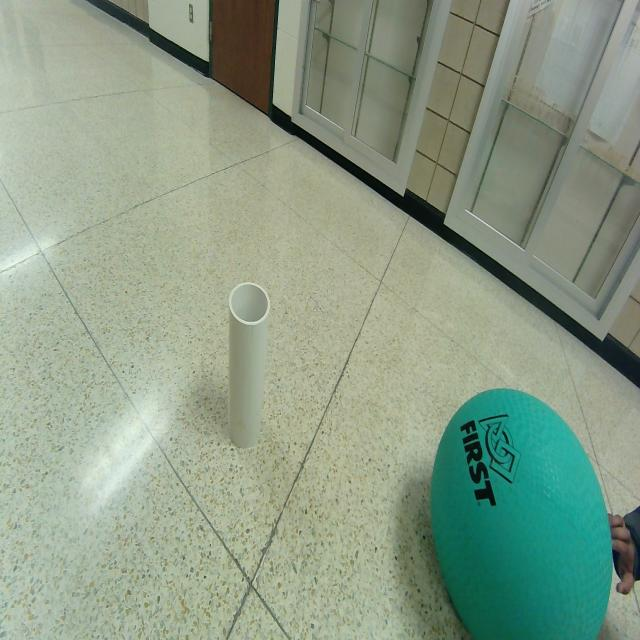algae: (423, 367, 615, 640)
coral: (228, 283, 270, 447)
